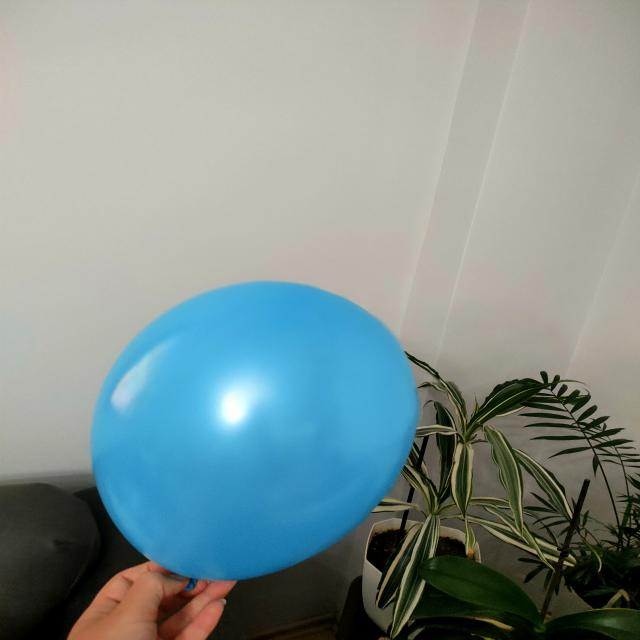blue: (92, 282, 418, 583)
